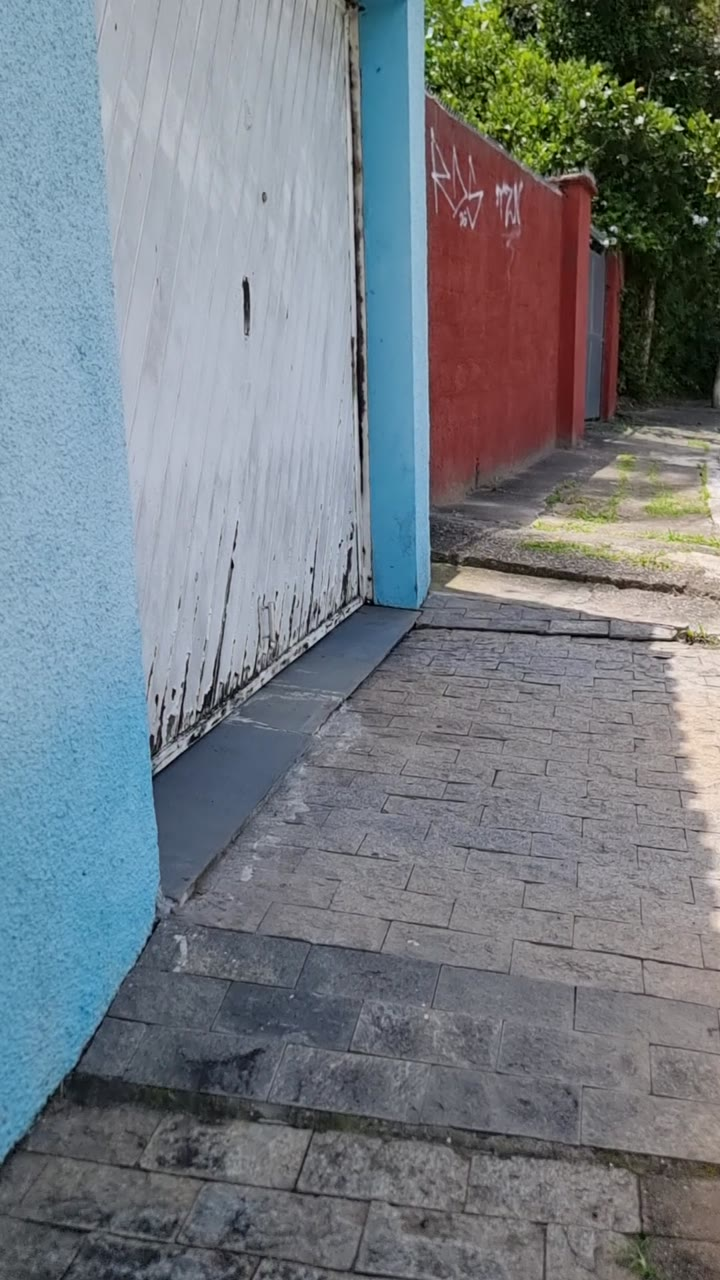desnivel: (418, 538, 720, 614)
